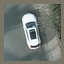car: (21, 12, 44, 50)
